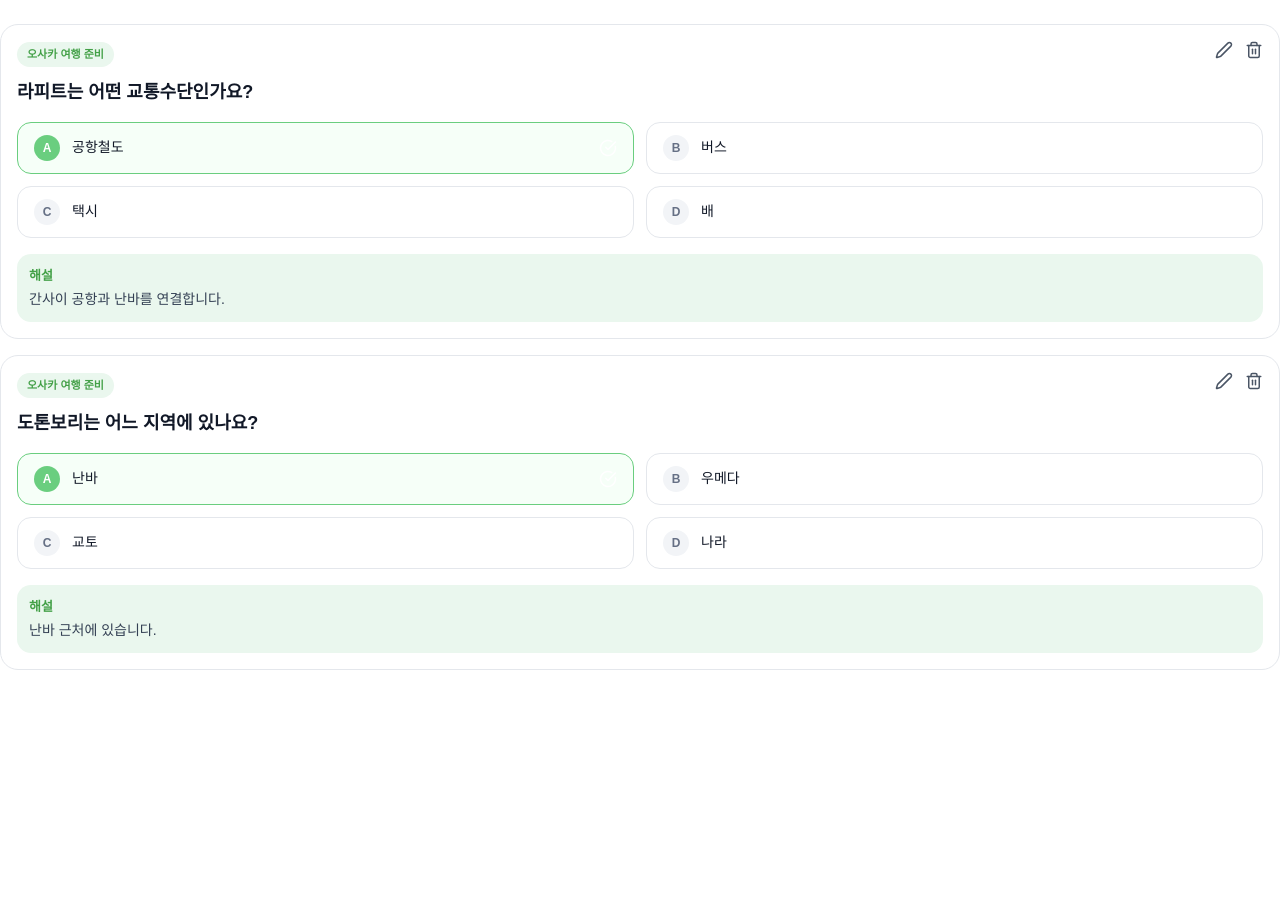
Test: QuizForm 컴포넌트 테스트 › 퀴즈 삭제 실패 시 에러 메시지를 보여준다
This screenshot has width=1280, height=900.
Step 1. Click the 1st button named "퀴즈 삭제" → point(1254, 50), box [1245,41,1263,59]
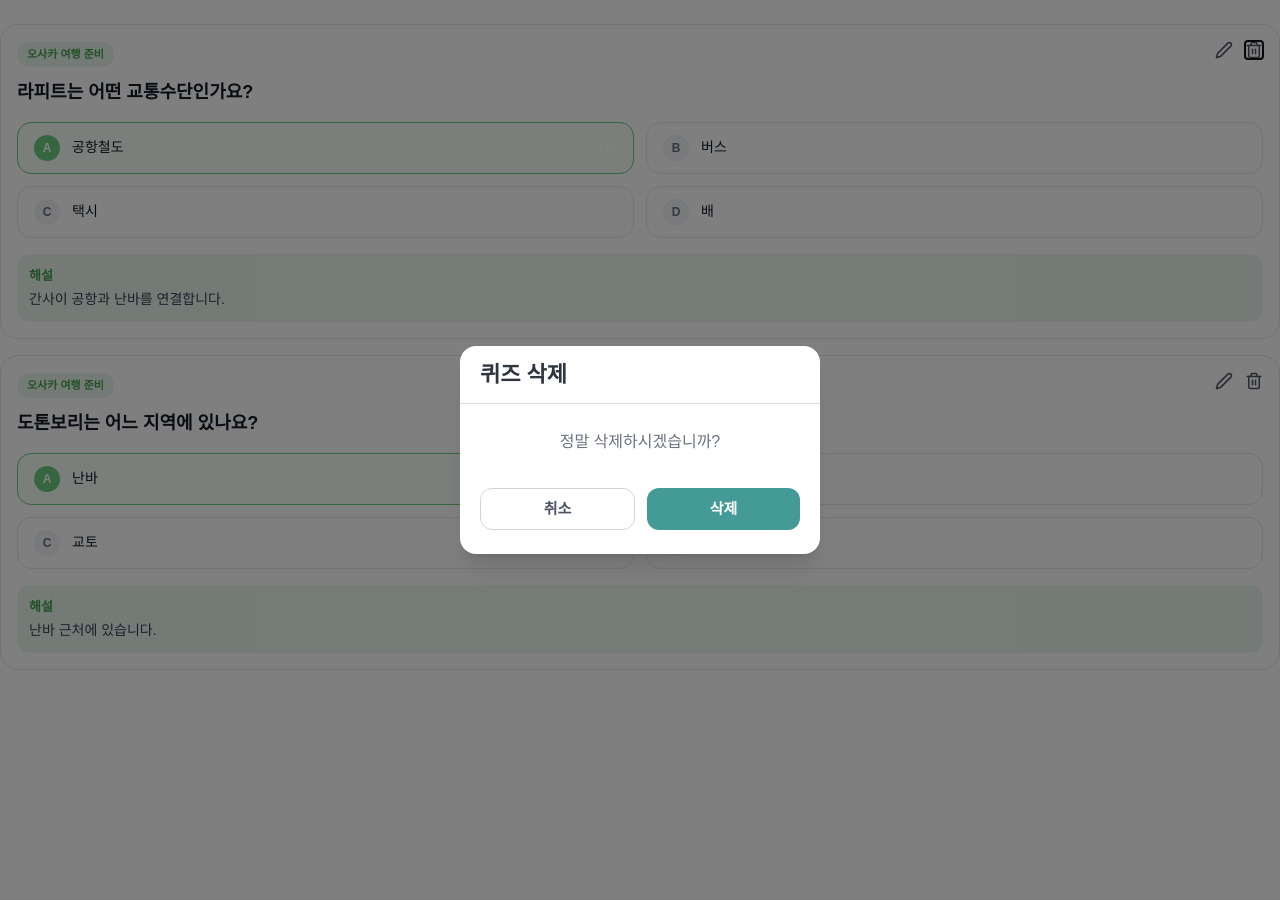
Step 2. Click the button "삭제" → point(724, 509), box [647,488,800,530]
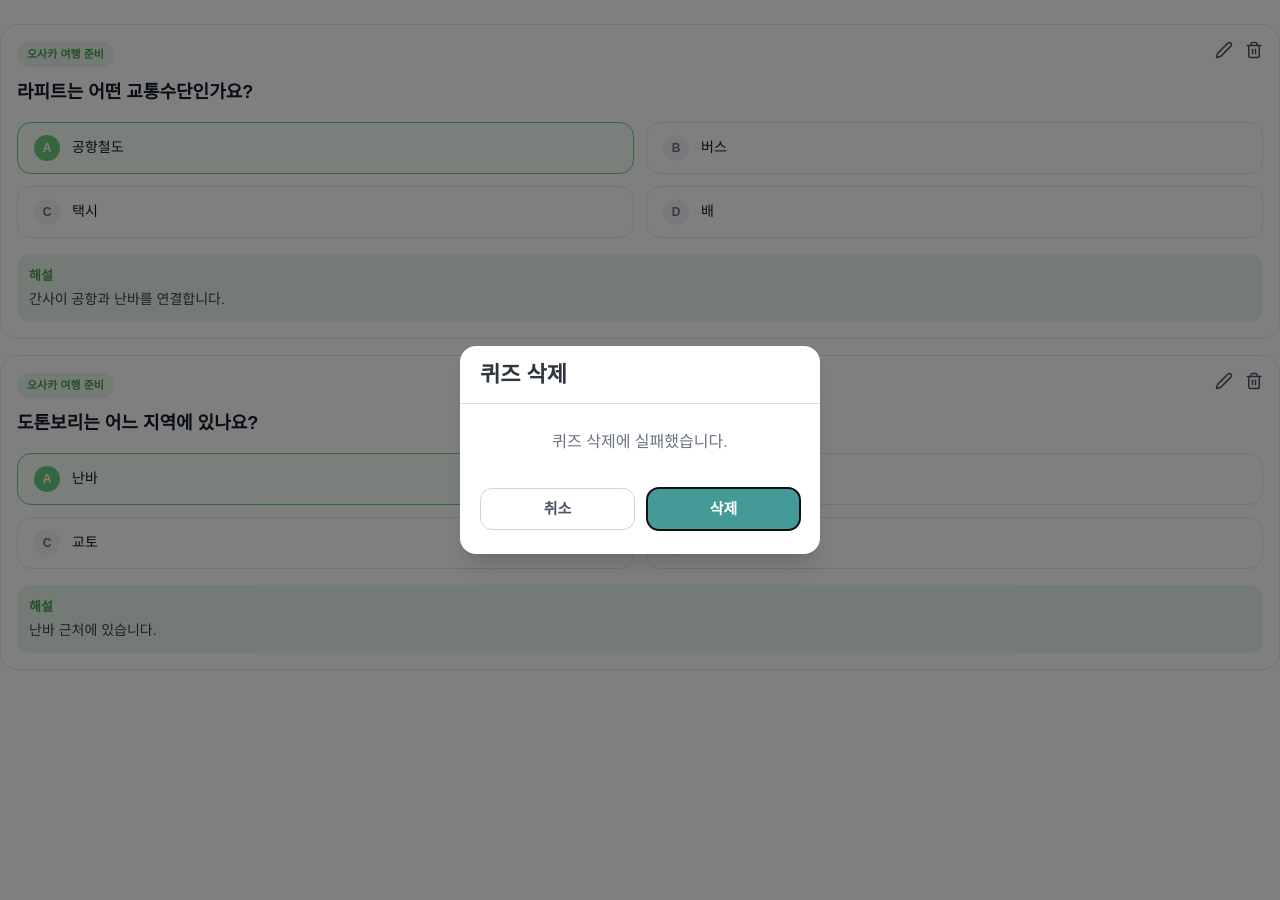
expect the text "퀴즈 삭제에 실패했습니다." is shown: met, box [552,428,728,456]
